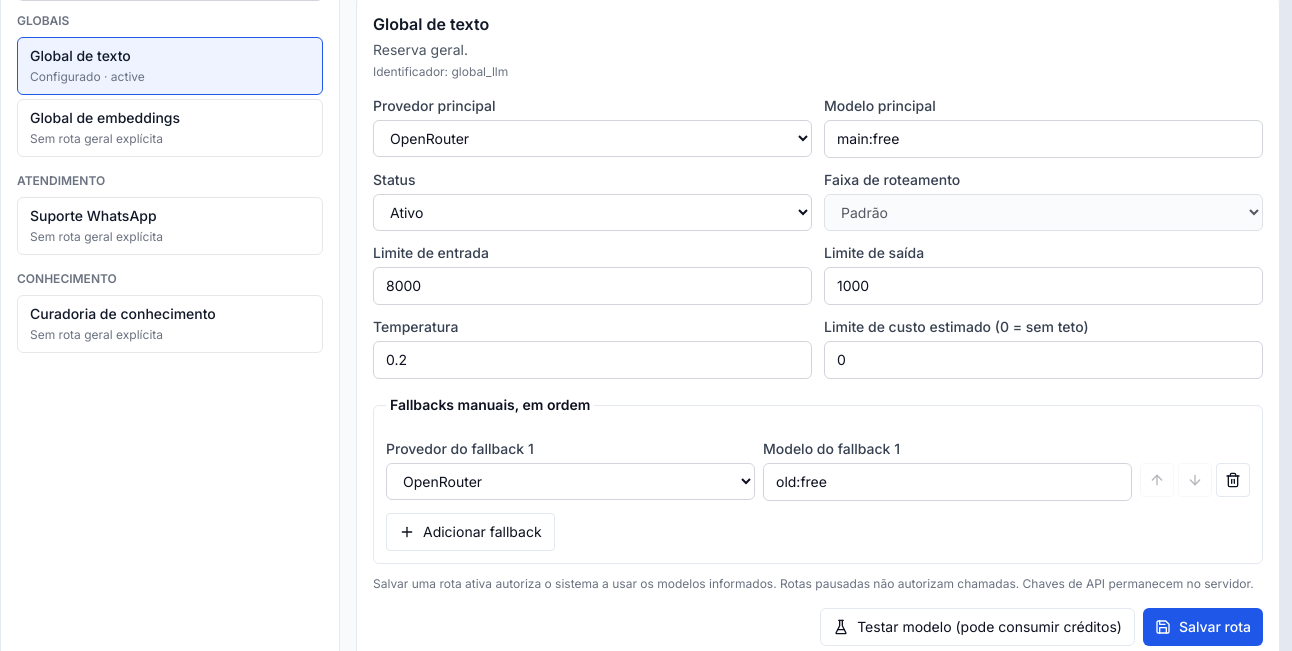
Test case: central model editor › shows all service groups, global settings and preserves legacy fallback
(page scrolled)
Expected: the field labelled "Modelo do fallback 1" holds "old:free", [763, 463, 1132, 501]
Click the button "Adicionar fallback" at (470, 532), box [386, 513, 555, 551]
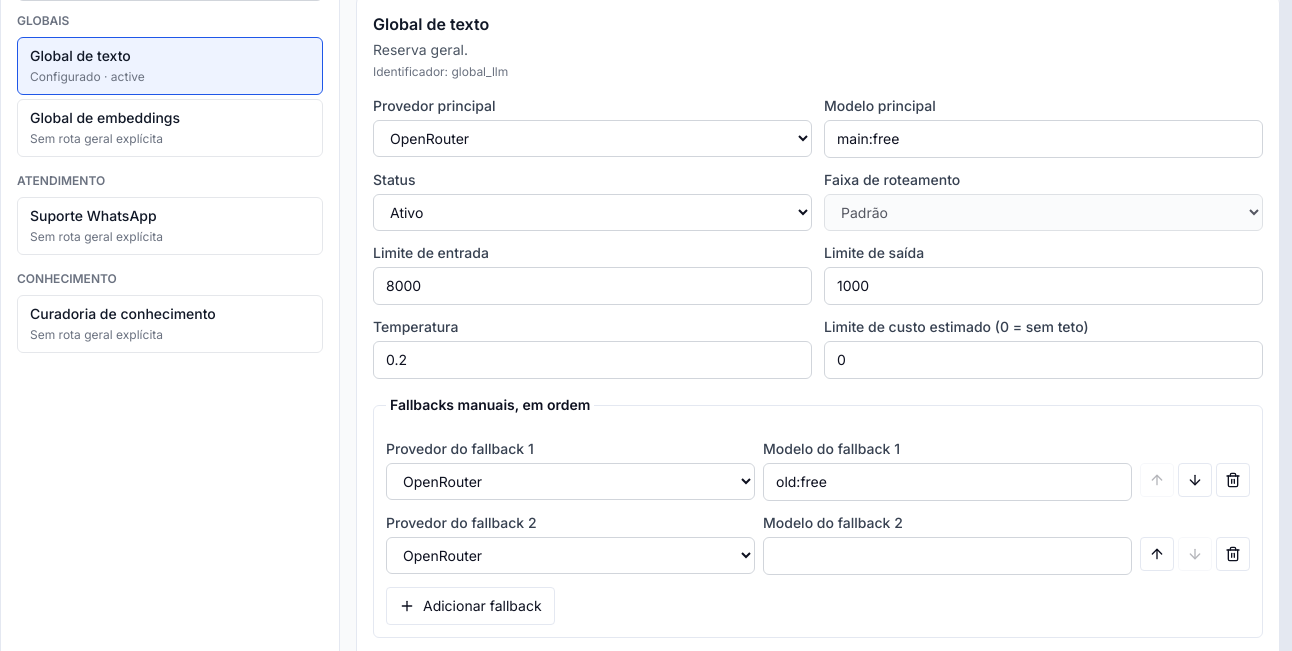
Now the text "Modelo do fallback 2" is shown, box [763, 514, 903, 531]
Click the button "Global de embeddings Sem rota geral explícita" at (170, 128), box [17, 99, 323, 157]
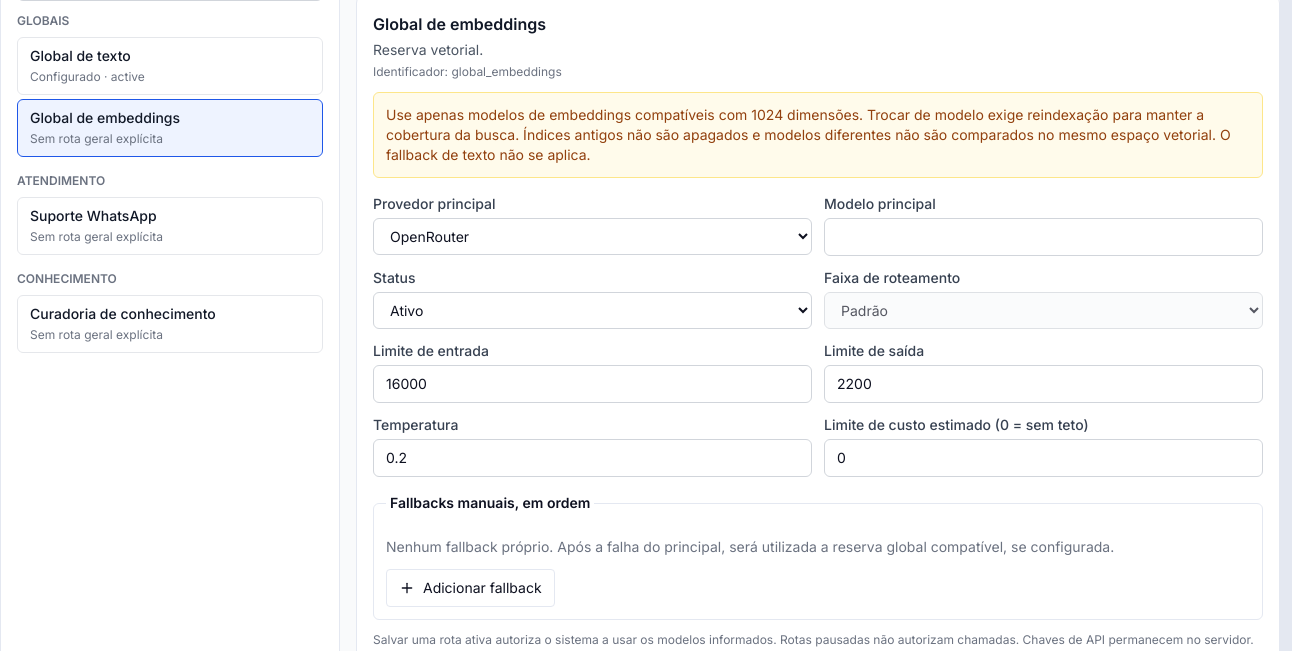
Now the text "Trocar de modelo exige reindexação" is shown, box [386, 106, 1231, 163]
Now the text "fallback de texto não se aplica" is shown, box [386, 106, 1231, 163]
